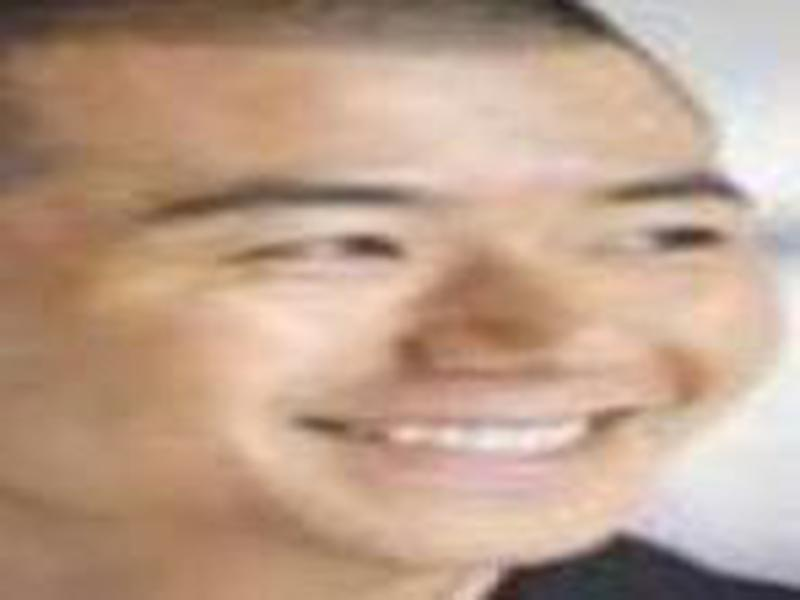without_mask: (44, 31, 795, 570)
